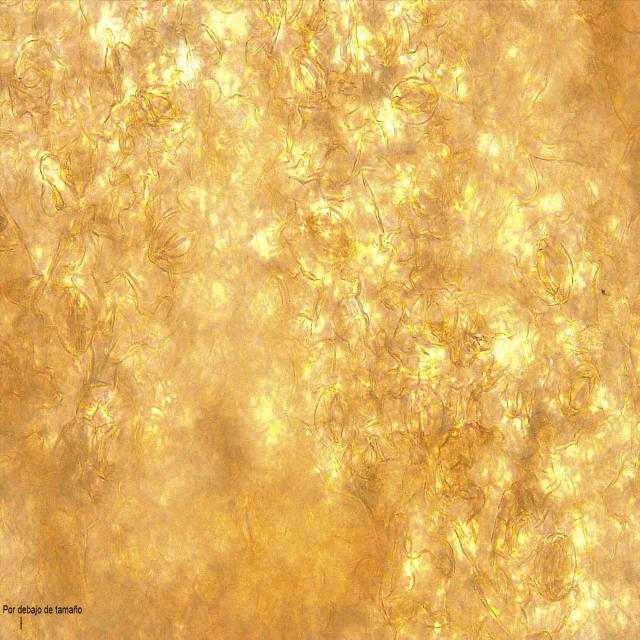Stomata: (148, 208, 208, 274), (523, 233, 575, 307), (532, 531, 578, 603), (53, 286, 97, 358), (557, 360, 605, 423), (88, 419, 134, 484), (403, 382, 446, 450), (312, 384, 354, 450), (390, 77, 439, 126)
